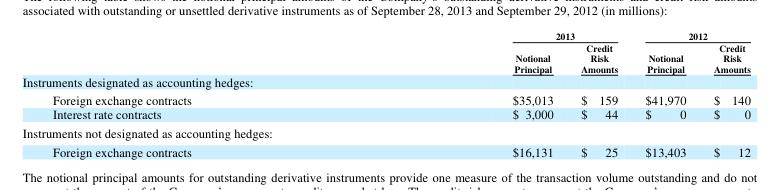table: (21, 29, 749, 159)
table column: (21, 29, 351, 159), (351, 29, 566, 159), (630, 29, 699, 159), (566, 29, 630, 159), (699, 29, 749, 159)
table column header: (21, 29, 749, 73)
table projected row header: (21, 122, 749, 141), (21, 73, 749, 90)
table row: (21, 41, 749, 73), (21, 122, 749, 141), (21, 141, 749, 159), (21, 73, 749, 90), (21, 90, 749, 106), (21, 106, 749, 122), (21, 29, 749, 41)
table spanning cell: (351, 29, 630, 41), (630, 29, 749, 41)
